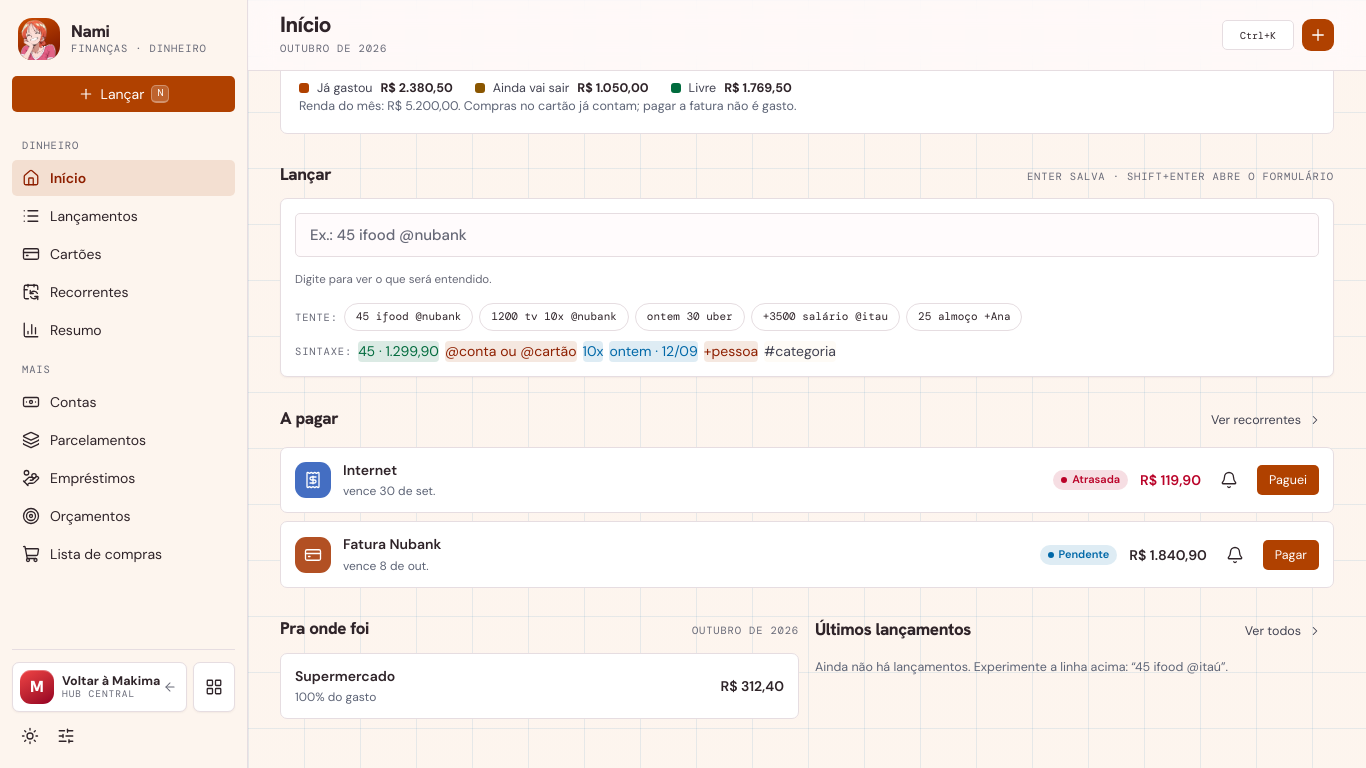
lembrete na Kaguya › "Lembrar" numa conta cria a tarefa com o vencimento e o valor, uma vez só
(page scrolled)
Click the button named "Lembrar de Internet na Kaguya" at (1229, 480), box [1213, 464, 1245, 496]
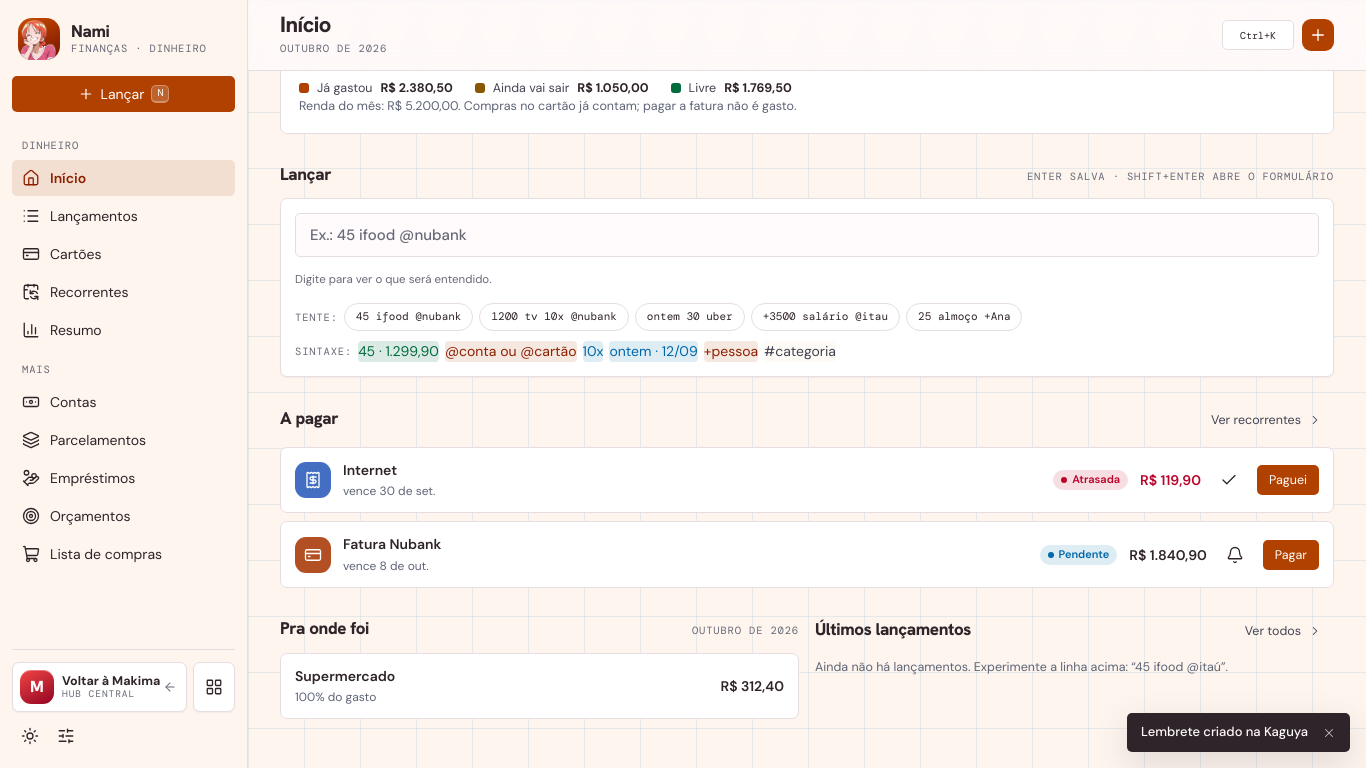
Expected: the text "Lembrete criado na Kaguya" is shown, [1141, 723, 1308, 742]
Expected: the button named "Lembrete de Internet criado" is disabled, [1213, 464, 1245, 496]
